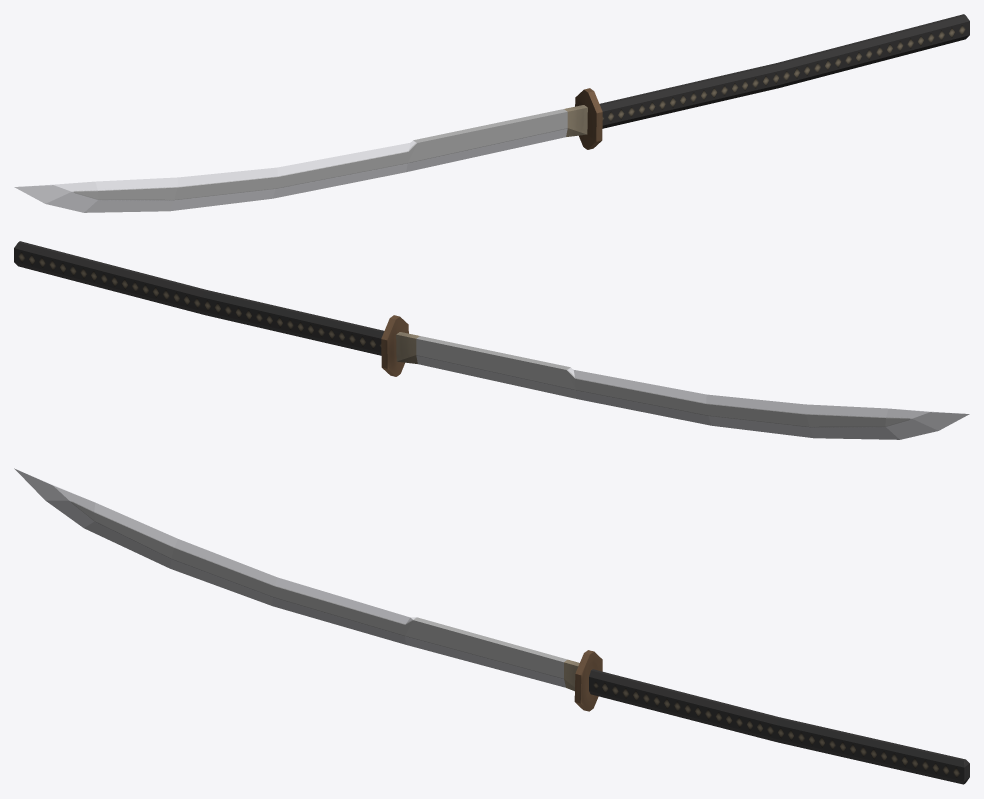
The model's file is sword_10.glb.
3 renders of one model, top to bottom at view 1: azimuth 30°, elevation 25°; view 2: azimuth 150°, elevation 25°; view 3: azimuth 330°, elevation 25°, orthographic.
Parts seen in each view (by area): view 1: Set B2 UV; view 2: Set B2 UV; view 3: Set B2 UV.
Boxes of the visible parts, x1=… form: Set B2 UV: x1=14, y1=14, x2=969, y2=212; Set B2 UV: x1=14, y1=241, x2=969, y2=439; Set B2 UV: x1=14, y1=468, x2=969, y2=784.
Bounding box in the file's own units: 320 × 32.38 × 12.5.
Materials: 1 (1 with a texture image).
